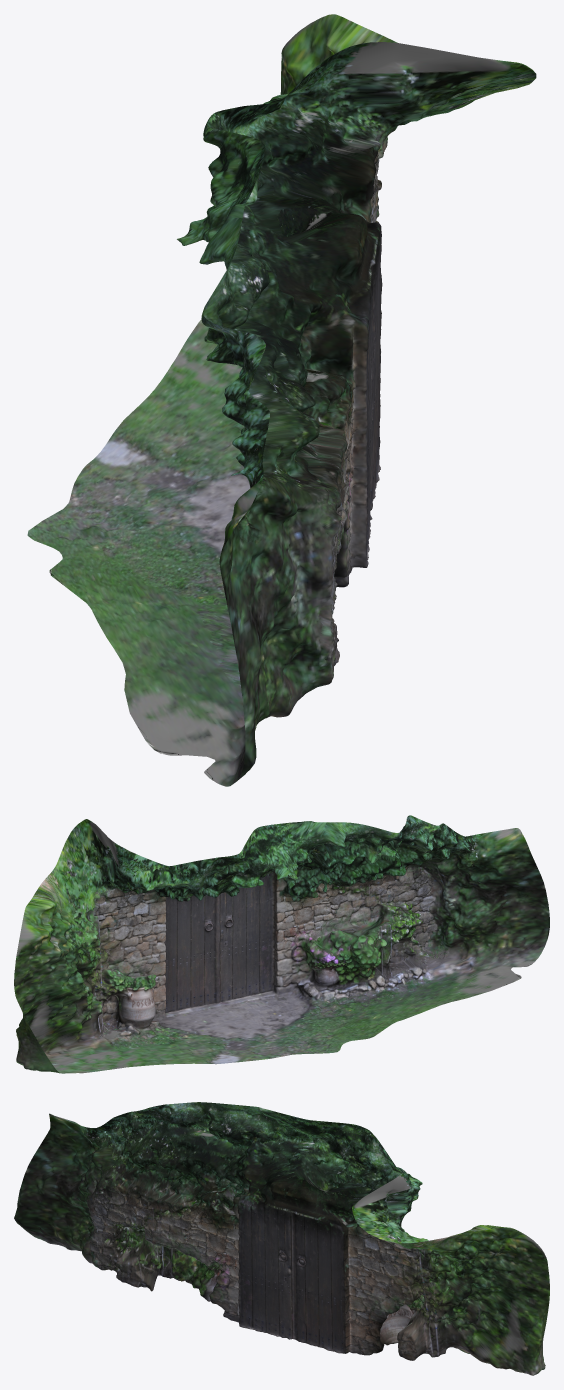
File: a_greek_gate_in_a_garden.glb
3 renders of one model, top to bottom at view 1: azimuth 30°, elevation 25°; view 2: azimuth 150°, elevation 25°; view 3: azimuth 270°, elevation 25°, orthographic. The views are drawn at different scales.
Visible parts, largest first — view 1: mainMeshNode; view 2: mainMeshNode; view 3: mainMeshNode.
Part boxes in pixels (box(x1,y1,x2,y2)): mainMeshNode: box(27, 14, 536, 786); mainMeshNode: box(14, 815, 549, 1073); mainMeshNode: box(14, 1102, 549, 1375).
Bounding box in the file's own units: 31011 × 17930 × 43592.
2 materials, 1 textured.
